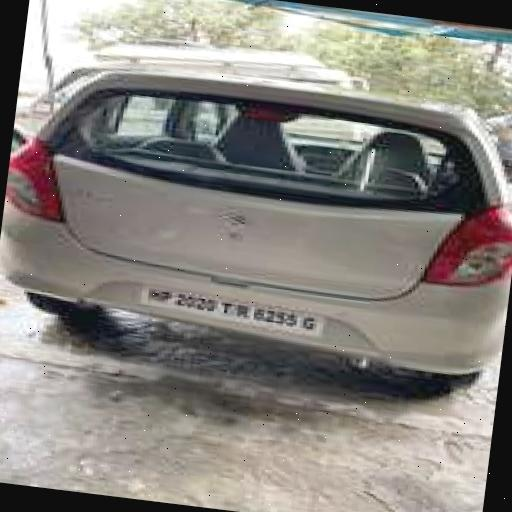license_plate`: (136, 282, 319, 336)
